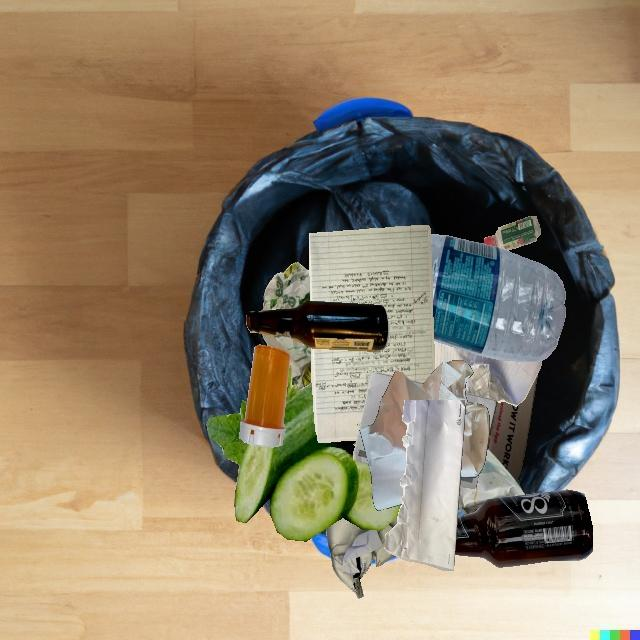biowaste: (206, 364, 402, 541)
glass: (455, 490, 593, 567), (246, 301, 389, 351)
paper: (309, 225, 435, 443), (360, 360, 490, 510), (385, 400, 466, 571), (458, 374, 538, 515), (376, 381, 476, 477), (434, 340, 542, 406), (326, 516, 398, 599), (261, 333, 312, 392), (261, 262, 310, 311)
plastic: (430, 234, 566, 362), (239, 345, 290, 447), (484, 216, 540, 251), (353, 441, 356, 446)
